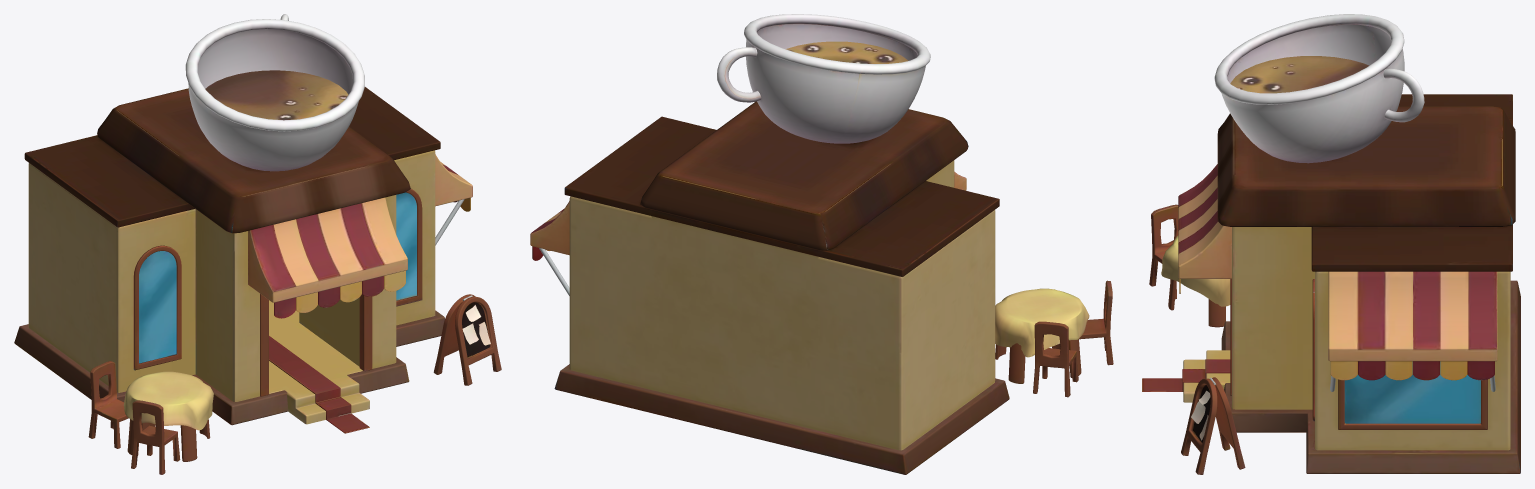
Rendered from CoffeeShop.glb.
The picture shows the model from 3 angles, left to right: view 1: azimuth 30°, elevation 25°; view 2: azimuth 150°, elevation 25°; view 3: azimuth 270°, elevation 25°; orthographic projection. The views are drawn at different scales.
Parts seen in each view (by area): view 1: building1_lambert1_0; view 2: building1_lambert1_0; view 3: building1_lambert1_0.
Part boxes in pixels (left/top/right/bottom): building1_lambert1_0: left=14, top=14, right=501, bottom=474; building1_lambert1_0: left=530, top=14, right=1113, bottom=474; building1_lambert1_0: left=1142, top=14, right=1520, bottom=474.
Size of the model in its own units: 0.2158 by 0.1626 by 0.1598.
1 material, 1 textured.
